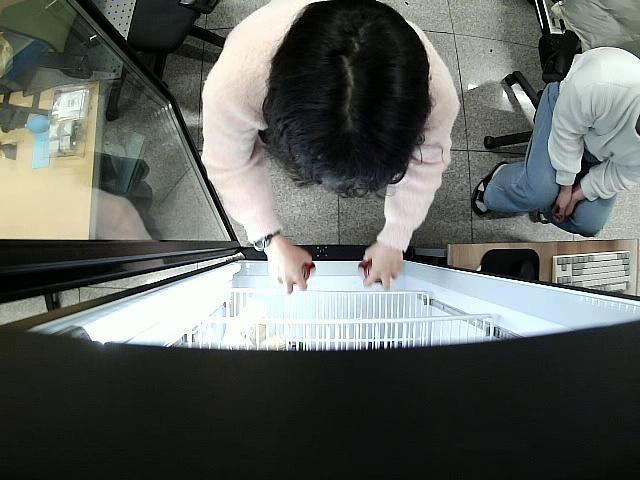11_cocaColaZero: (359, 260, 384, 286), (302, 260, 315, 286)
